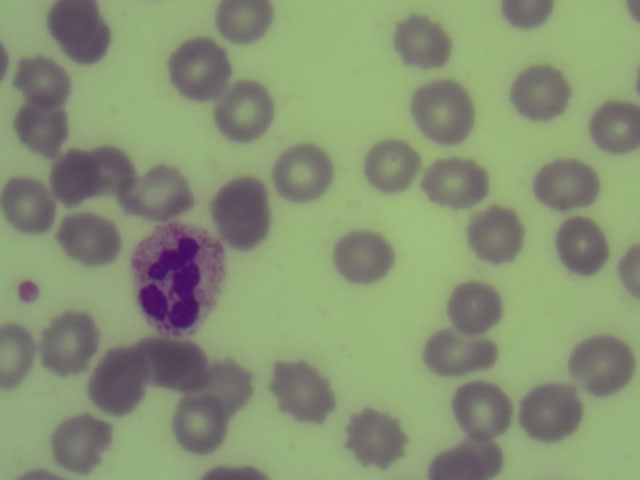Platelets: (18, 279, 40, 303)
RBC: (206, 179, 279, 244), (165, 38, 233, 99), (449, 375, 510, 438), (349, 403, 406, 469), (55, 413, 117, 473), (416, 81, 472, 146), (281, 358, 336, 424), (521, 382, 582, 439), (425, 328, 497, 376), (532, 160, 601, 209), (139, 340, 206, 390), (423, 159, 488, 210), (572, 340, 631, 395), (59, 212, 120, 265), (469, 211, 526, 267), (338, 228, 393, 286), (139, 163, 194, 221), (398, 17, 457, 71), (516, 65, 569, 123), (2, 177, 55, 235), (448, 279, 504, 333), (368, 136, 421, 193), (11, 55, 73, 103), (276, 145, 335, 195), (23, 96, 70, 158), (44, 314, 96, 370), (592, 98, 640, 158), (564, 215, 609, 279), (179, 388, 224, 452), (96, 351, 143, 409), (219, 85, 272, 136), (216, 361, 263, 418), (431, 443, 501, 480), (50, 1, 99, 49), (216, 1, 271, 41), (1, 321, 32, 388), (95, 146, 137, 195), (59, 152, 97, 205), (504, 1, 562, 35), (74, 25, 111, 63), (622, 245, 640, 298), (206, 466, 271, 480)
WBC: (137, 219, 228, 337)
